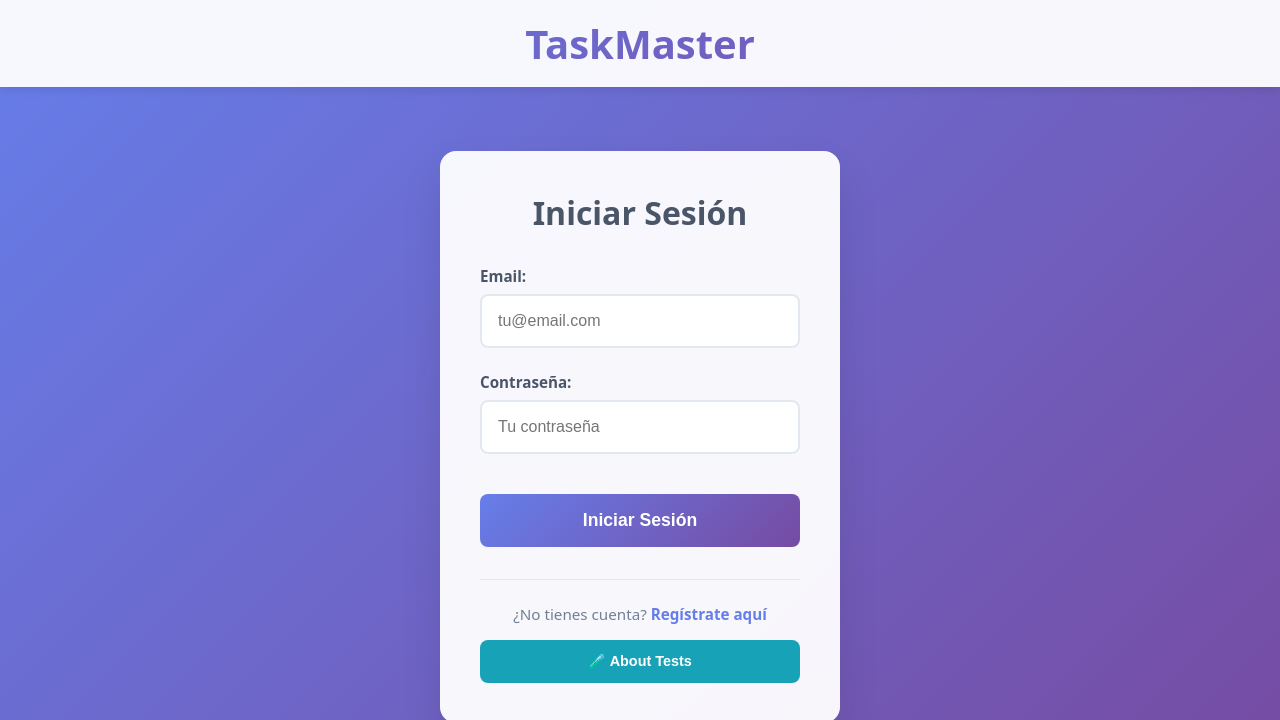
Test: Autenticación de Usuarios › Cerrar Sesión › debería cerrar sesión exitosamente
Type "test@taskmaster.com" into the field with test id "email-input" at (640,321), box [480, 294, 800, 348]
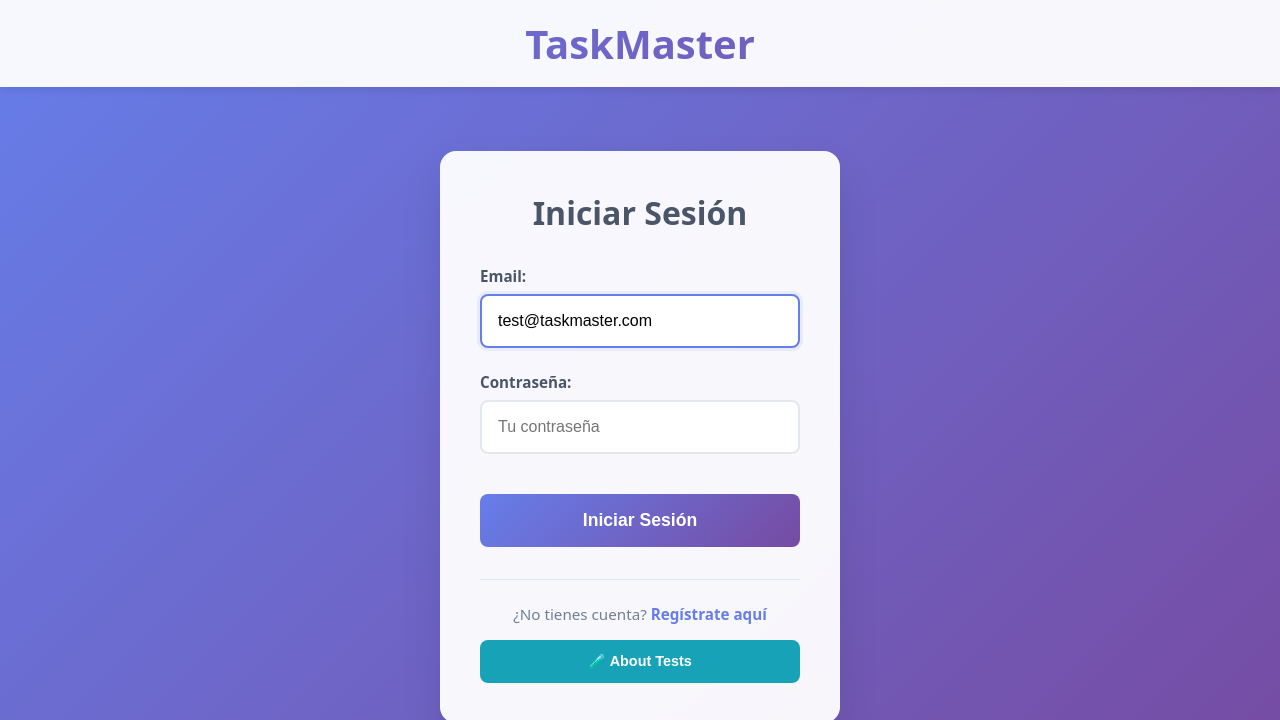
Type "password123" into the password field with test id "password-input" at (640,427), box [480, 400, 800, 454]
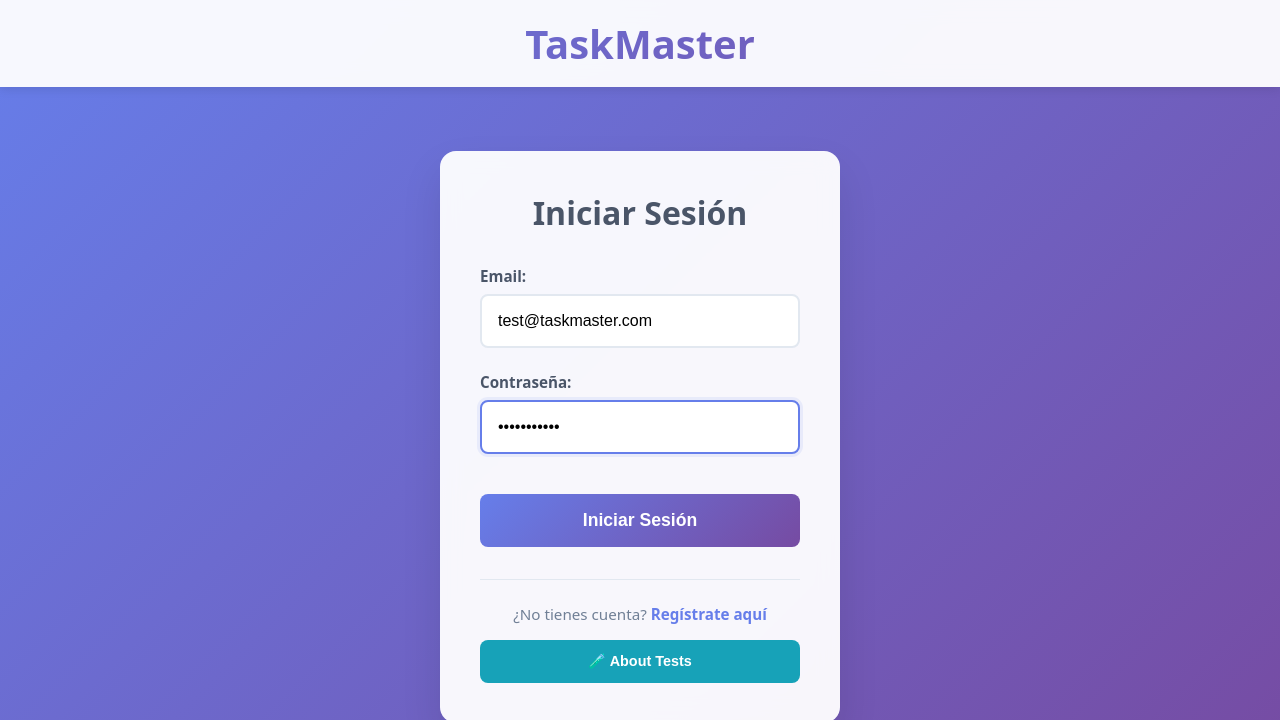
Click the button with test id "login-button" at (640,521), box [480, 494, 800, 547]
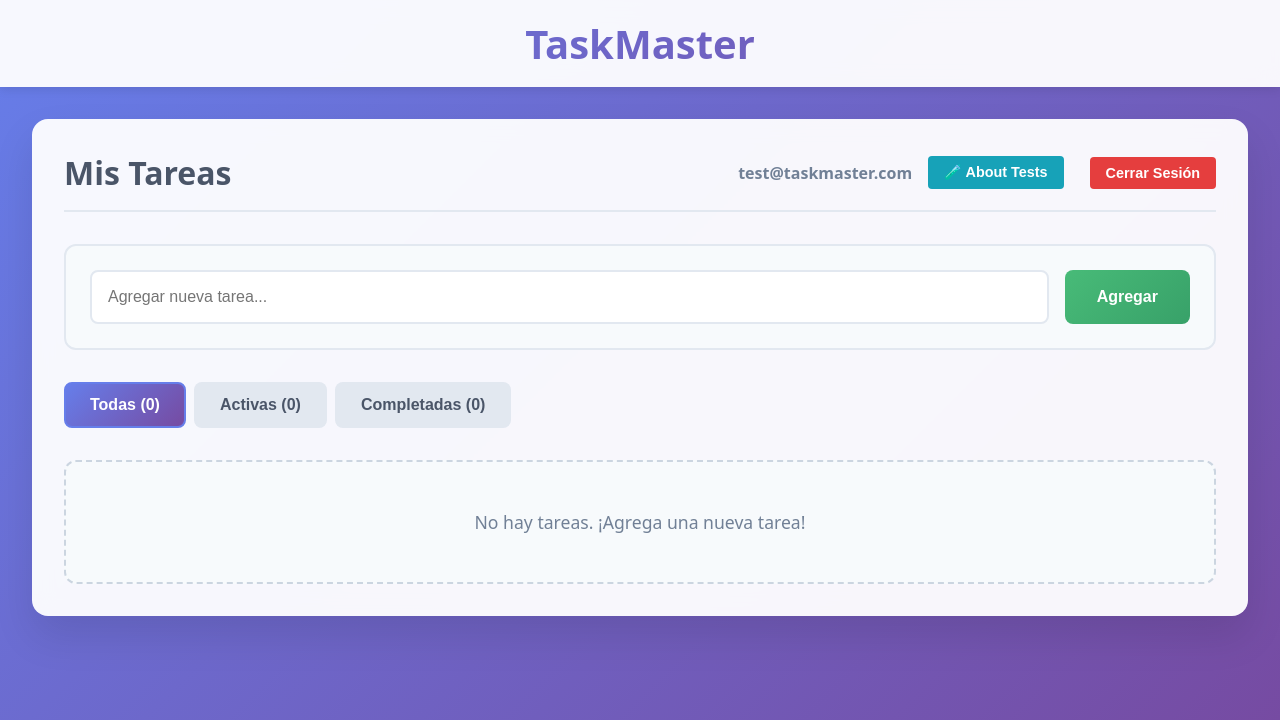
Check: the heading "Mis Tareas" is shown, box [64, 151, 232, 194]
// Hacer logout
Click the button with test id "logout-button" at (1153,173), box [1090, 157, 1216, 189]
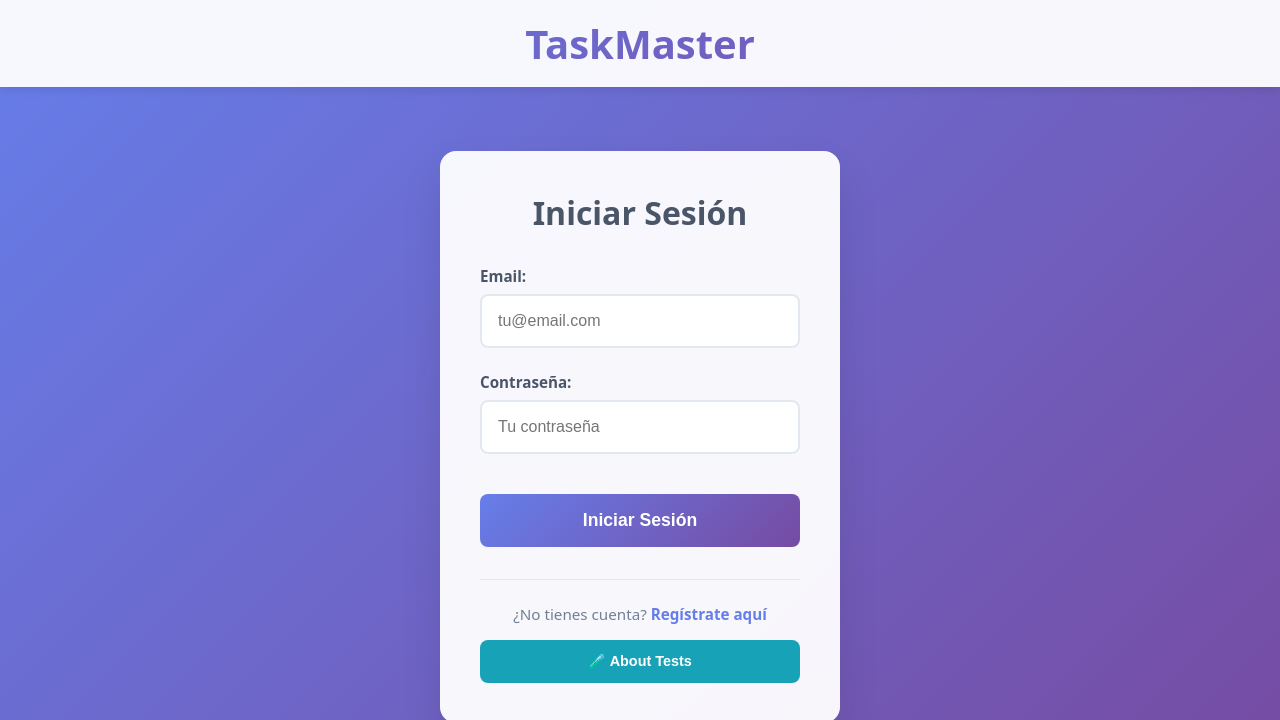
Check: the heading "Iniciar Sesión" is shown, box [533, 191, 747, 234]
